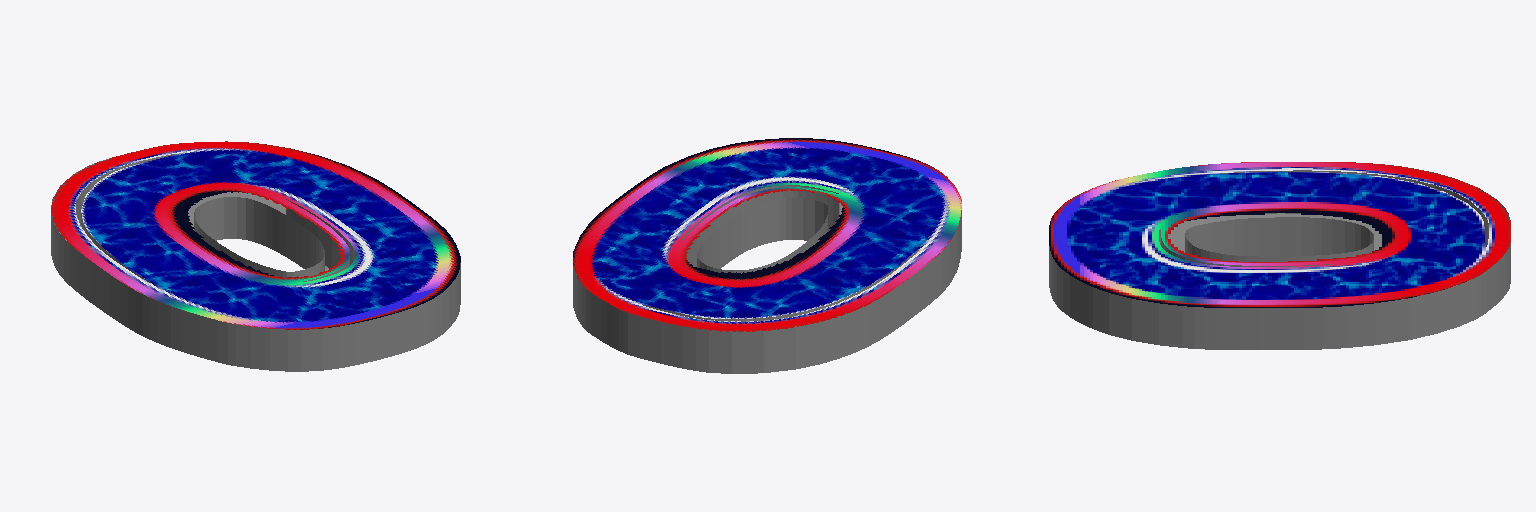
The picture shows the model from 3 angles: view 1: azimuth 30°, elevation 25°; view 2: azimuth 150°, elevation 25°; view 3: azimuth 270°, elevation 25°; orthographic projection.
Parts seen in each view (by area): view 1: 0; view 2: 0; view 3: 0.
Part boxes in pixels (x1,y1,x2,y2): 0: (51, 141, 460, 371); 0: (573, 138, 961, 373); 0: (1049, 162, 1510, 349).
Size of the model in its own units: 15 by 2 by 20.
2 materials, 1 textured.